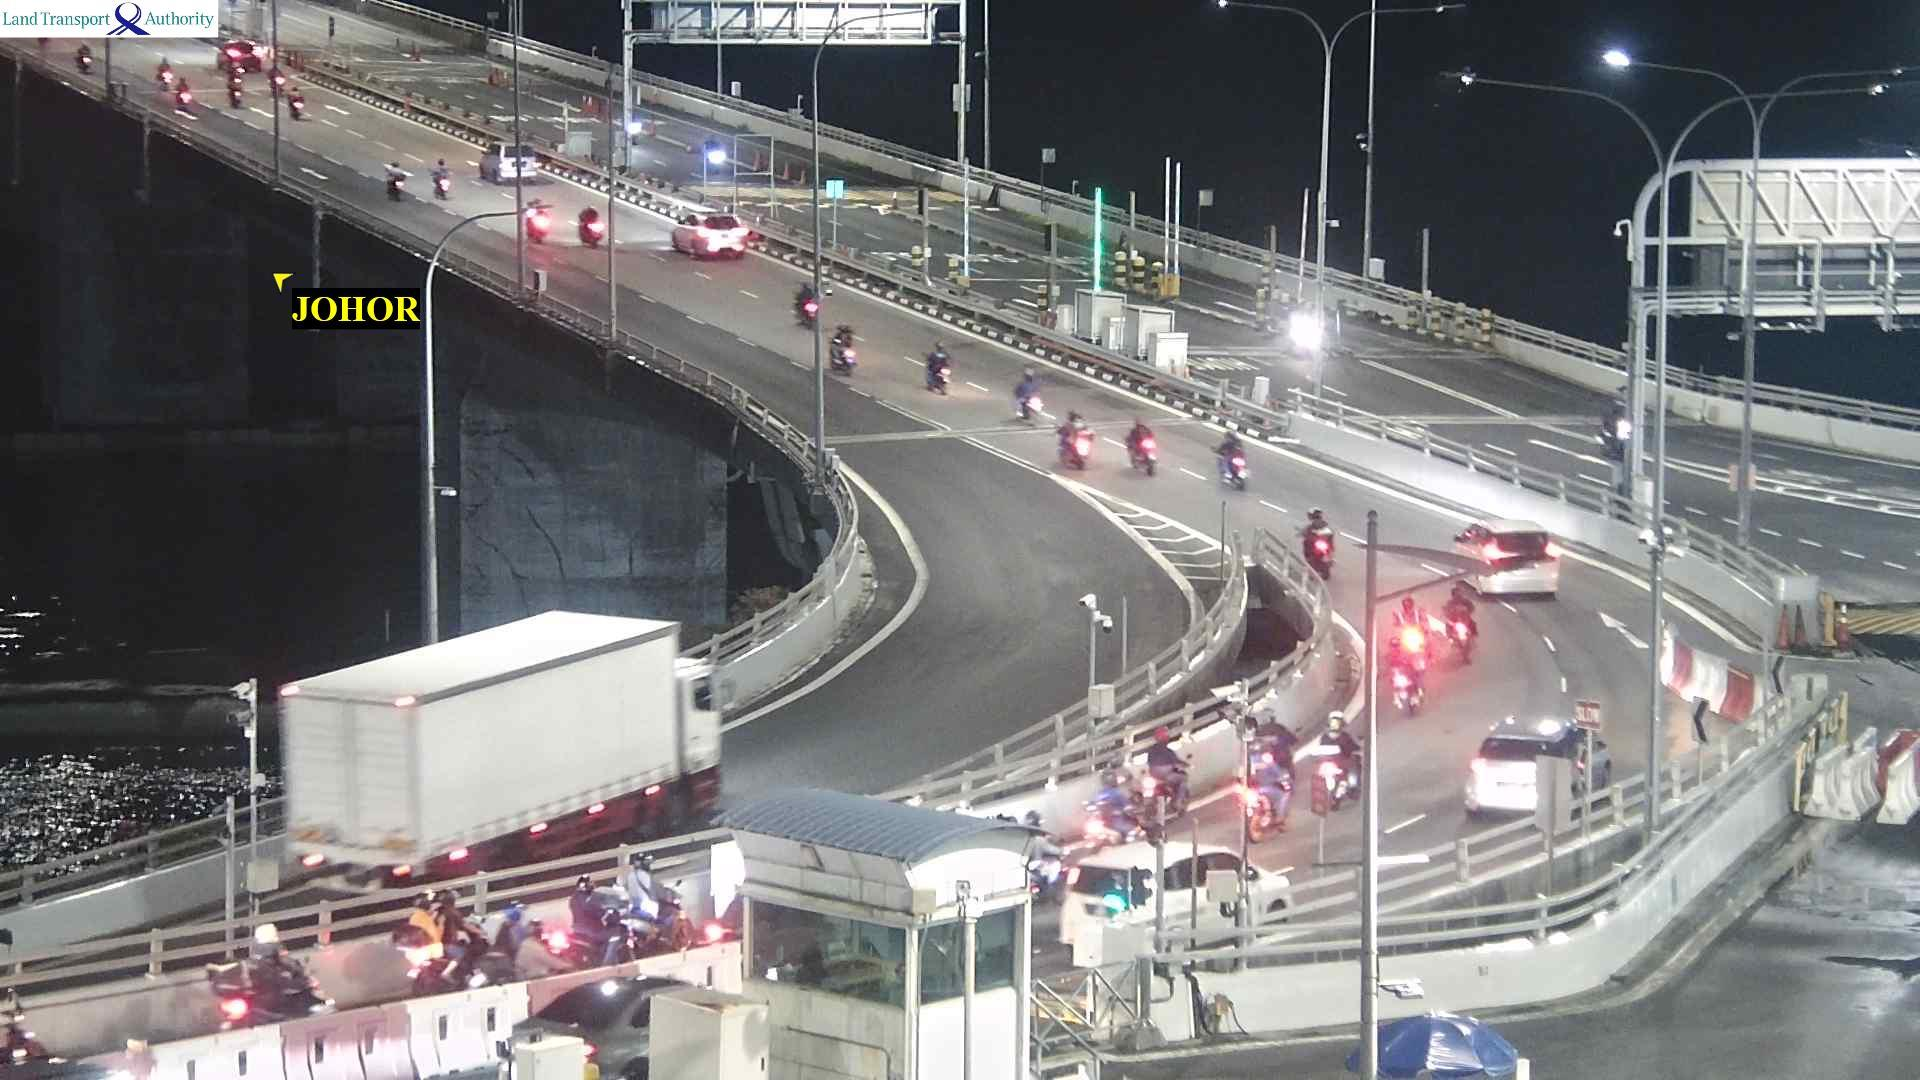vehicle-secondlink-johor: (282, 706, 722, 893), (1065, 848, 1287, 962), (353, 900, 537, 995), (549, 868, 705, 974), (1465, 723, 1612, 812), (218, 949, 335, 1030), (1451, 520, 1551, 581), (1312, 708, 1352, 840), (0, 1020, 72, 1078), (1242, 710, 1281, 816), (1394, 595, 1425, 712), (675, 218, 746, 260), (1087, 777, 1126, 842), (1299, 509, 1333, 574), (1445, 590, 1473, 660), (1059, 417, 1094, 471), (484, 154, 542, 186), (1217, 437, 1249, 492), (920, 344, 954, 392), (827, 325, 859, 371), (1129, 419, 1157, 471), (1018, 373, 1048, 419), (223, 37, 257, 72), (799, 284, 824, 324), (576, 208, 600, 247), (528, 205, 548, 242), (389, 168, 411, 199), (432, 165, 451, 199), (172, 76, 194, 105), (175, 85, 197, 112), (289, 92, 308, 118), (77, 48, 97, 72), (165, 58, 182, 82)
vehicle-secondlink-singapore: (701, 131, 734, 171)
